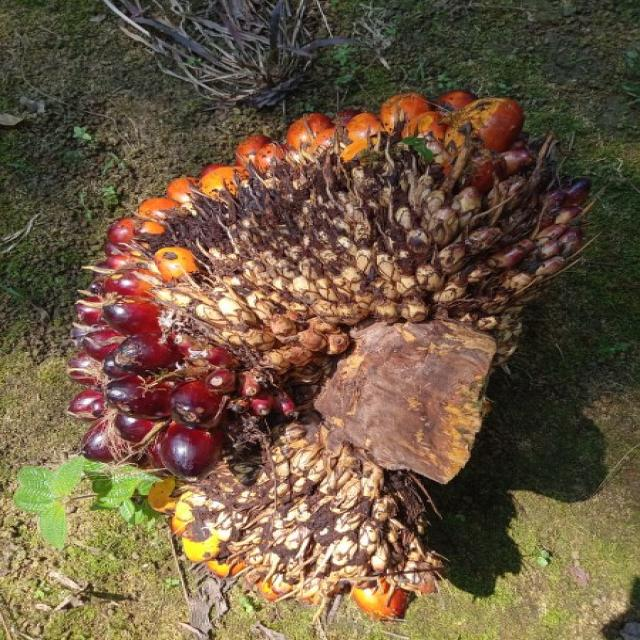fraksi 1: (42, 94, 554, 610)
